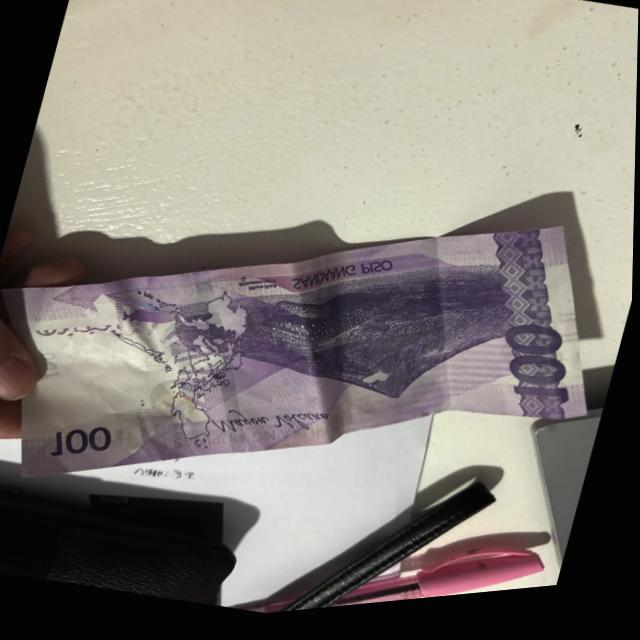100_whale: (250, 270, 401, 374)
100_whale_watermark: (118, 294, 183, 337)
value_watermark: (33, 349, 67, 384)
